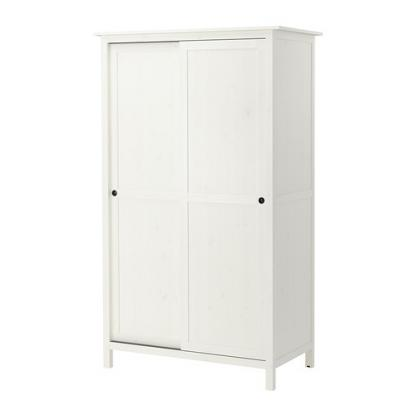Cabinet: (89, 22, 321, 393)
